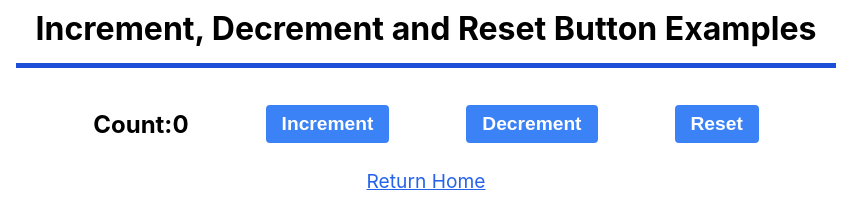
it: Decrement Counter › should decrease by 1 when clicking button
Expected: the heading "Count:0" is shown, [93,110,189,139]
Click the button "Decrement". click: (532, 124)
box: [466,105,598,143]
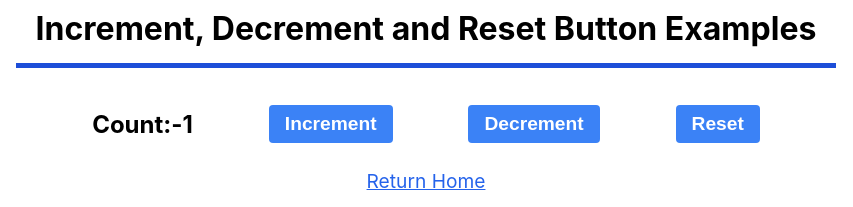
Expected: the heading "Count:0" shows "-1", [171,110,193,139]
Click the button "Decrement". click: (534, 124)
box: [468,105,600,143]
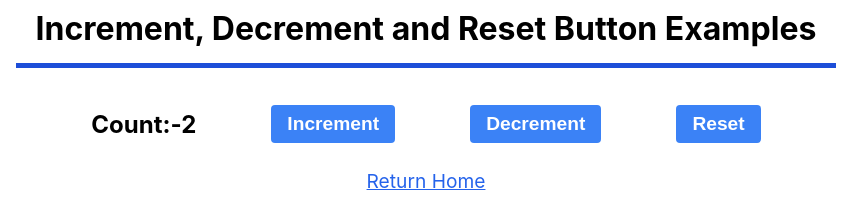
Expected: the heading "Count:0" shows "-2", [170,110,196,139]
